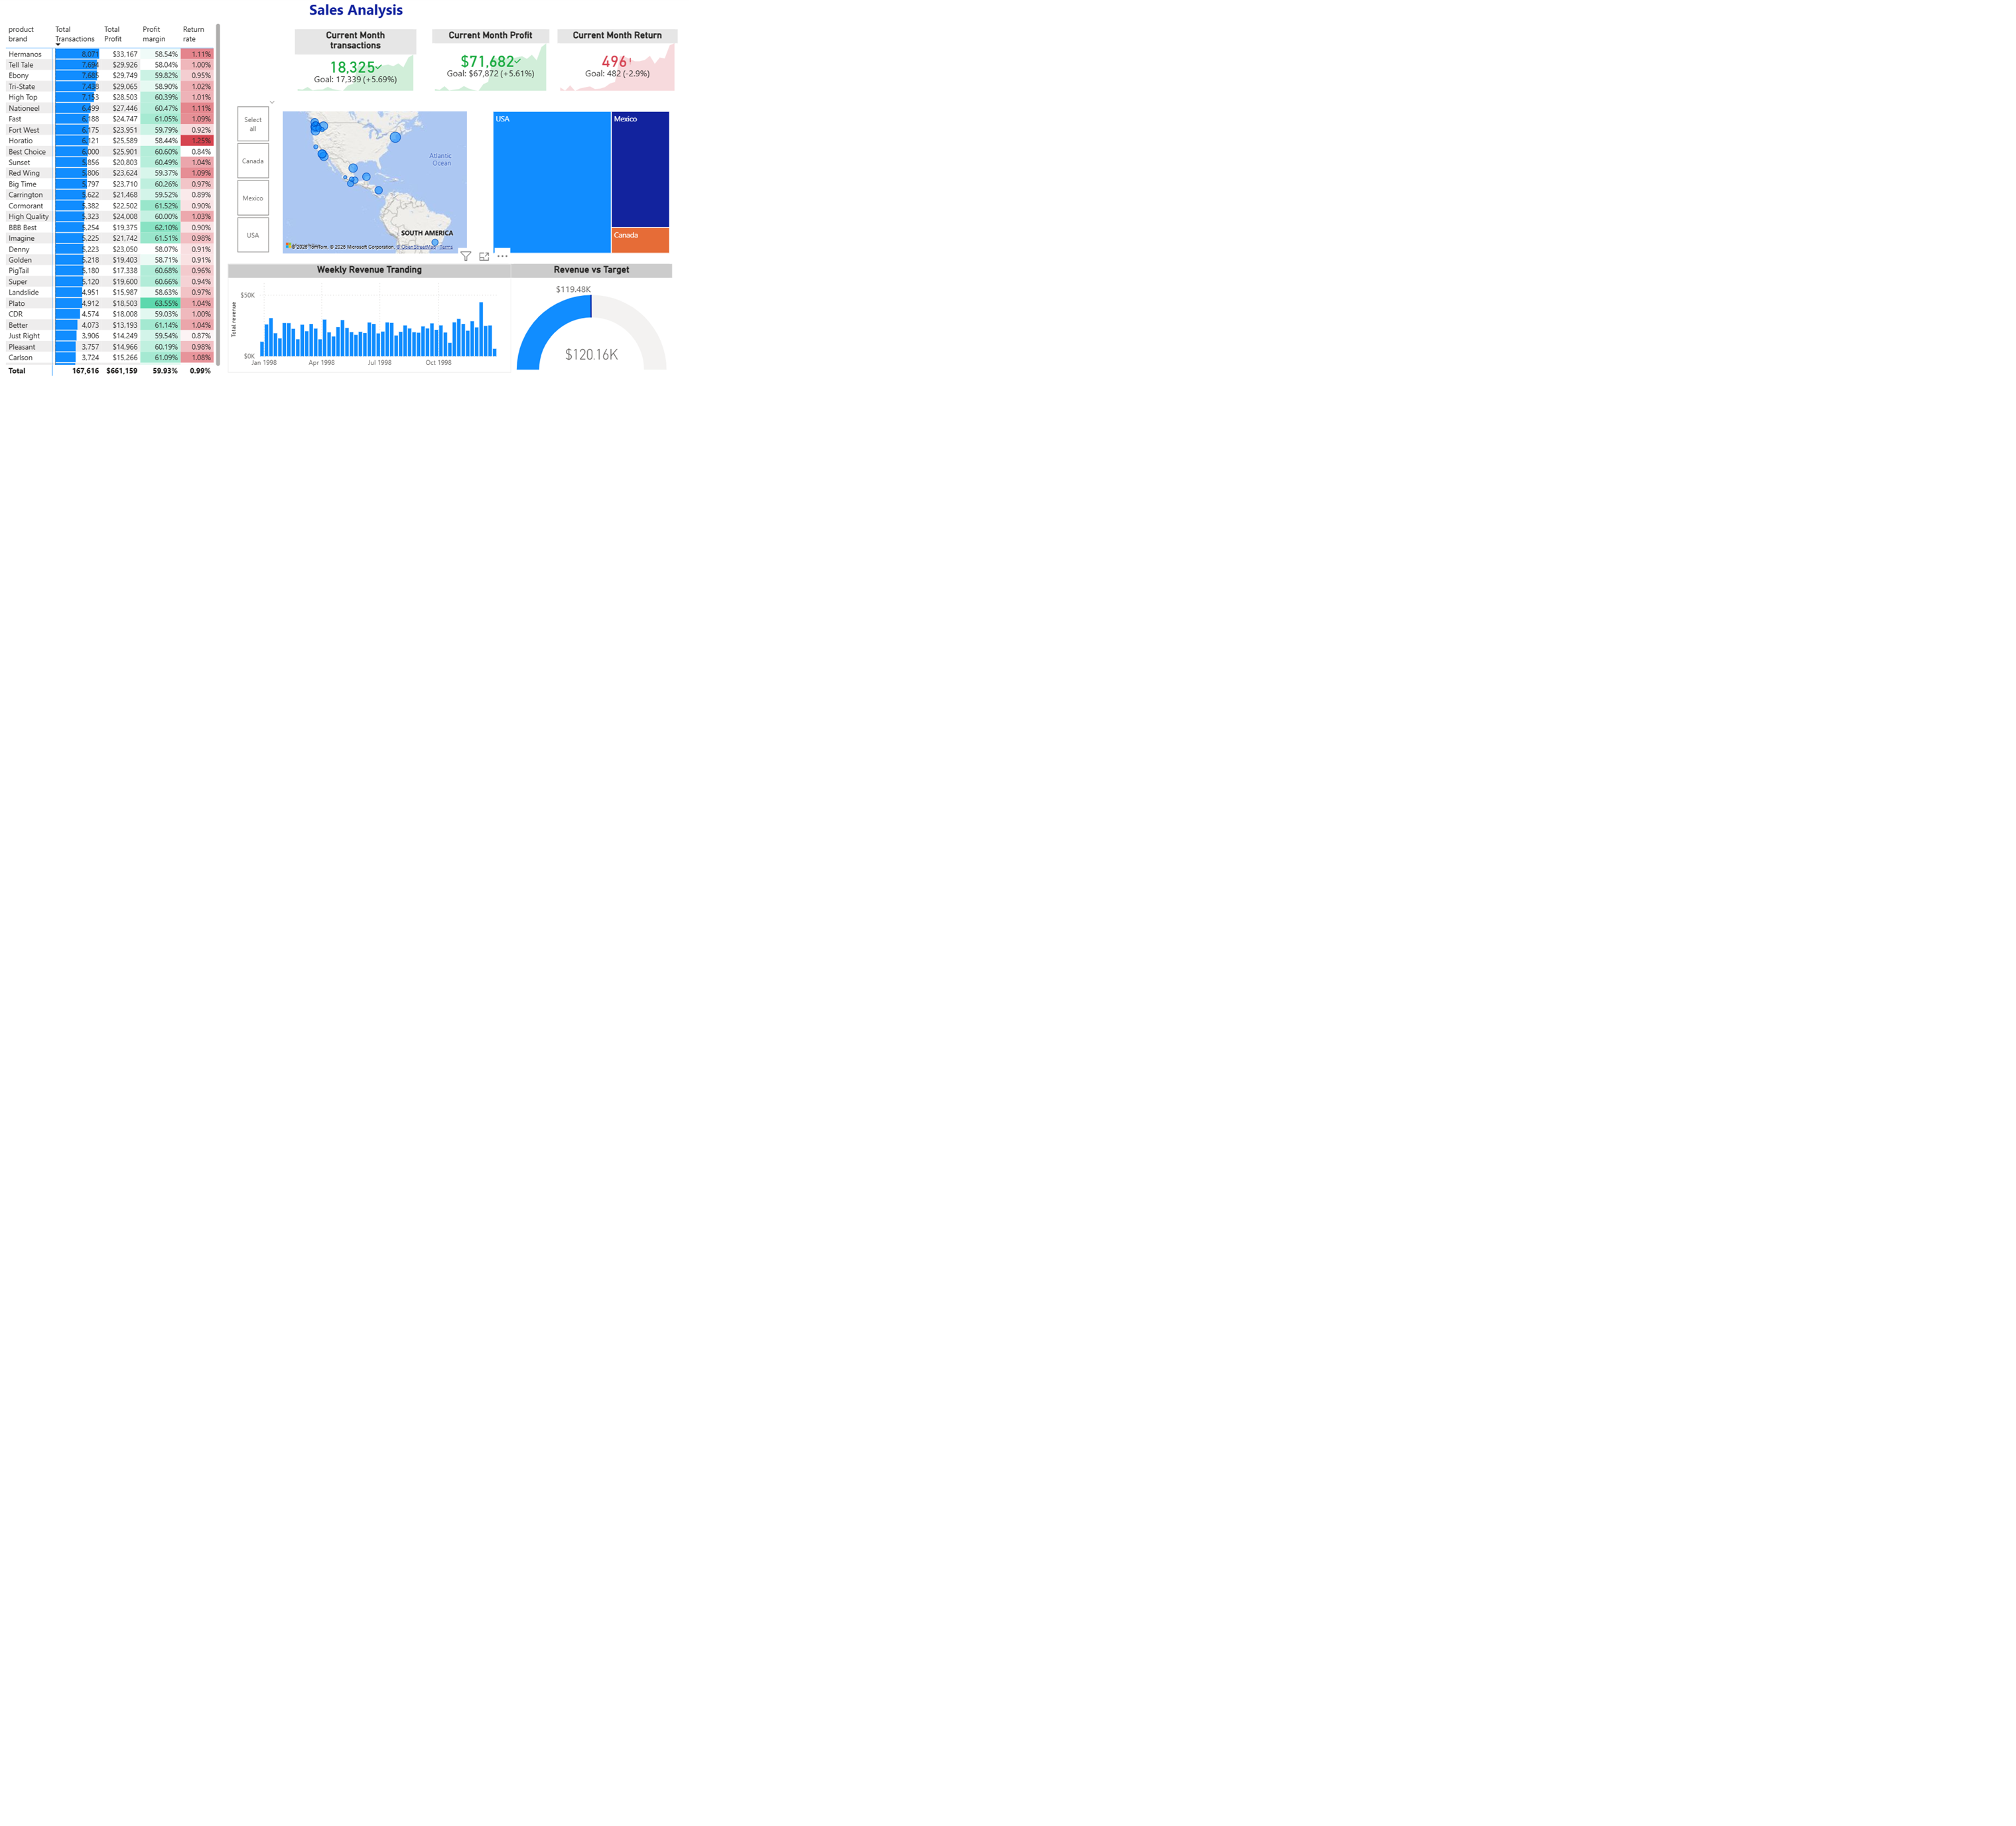

Layout of this report page (visuals, bound fields, positions):
{"tool":"powerbi","page":{"name":"Page 1","canvas":[1280,720],"ordinal":0},"visuals":[{"type":"textbox","box":[519.9,0,279.3,59.5],"z":0},{"type":"pivotTable","fields":{"Rows":["Products.product brand"],"Values":["All measures.Total Transactions","All measures.Total Profit","All measures.Profit margin","All measures.Return rate"]},"box":[8.6,44,406,660.3],"z":1000},{"type":"kpi","title":"Current Month transactions","fields":{"Indicator":["All measures.Total Transactions"],"TrendLine":["Calendar.Start of Month"],"Goal":["All measures.Last Month Transactions"]},"box":[546.6,59.9,223.8,118.6],"z":2000},{"type":"kpi","title":"Current Month Profit","fields":{"TrendLine":["Calendar.Start of Month"],"Goal":["All measures.Last Month Profit"],"Indicator":["All measures.Total Profit"]},"box":[799.1,59.5,215.7,118.9],"z":3000},{"type":"kpi","title":"Current Month Return","fields":{"TrendLine":["Calendar.Start of Month"],"Indicator":["All measures.Total Returns"],"Goal":["All measures.Last Month Returns"]},"box":[1031.4,59.5,221.2,118.9],"z":4000},{"type":"map","fields":{"Size":["All measures.Total Transactions"],"Category":["Stores.store city"]},"box":[519.7,206.7,348.5,271.5],"z":5000},{"type":"slicer","fields":{"Values":["Stores.store country"]},"box":[414.5,187.1,107.6,291],"z":6000},{"type":"treemap","fields":{"Values":["All measures.Total Transactions"],"Group":["Stores.store country","Stores.store state","Stores.store city"]},"box":[907.3,206.7,335.1,271.5],"z":7000},{"type":"columnChart","title":"Weekly Revenue Tranding","fields":{"Y":["All measures.Total revenue"],"Category":["Calendar.Start of Week"]},"box":[423.1,492.8,522.1,200.5],"z":8000},{"type":"gauge","title":"Revenue vs Target","fields":{"Y":["All measures.Total revenue"],"TargetValue":["All measures.Revenue target"]},"box":[945.2,492.8,297.1,200.5],"z":9000}]}

Visuals, with their boxes on the page's 1280x720 design canvas (x1, y1, x2, y2). These are canvas units, not pixel positions in the 2016x1826 screenshot, which may show the page scaled, cropped or inside an application window:
textbox: box(520, 0, 799, 60)
pivotTable - Products.product brand x All measures.Total Transactions: box(9, 44, 415, 704)
"Current Month transactions" kpi: box(547, 60, 770, 178)
"Current Month Profit" kpi: box(799, 60, 1015, 178)
"Current Month Return" kpi: box(1031, 60, 1253, 178)
map - All measures.Total Transactions x Stores.store city: box(520, 207, 868, 478)
slicer - Stores.store country: box(414, 187, 522, 478)
treemap - All measures.Total Transactions x Stores.store country: box(907, 207, 1242, 478)
"Weekly Revenue Tranding" columnChart: box(423, 493, 945, 693)
"Revenue vs Target" gauge: box(945, 493, 1242, 693)
